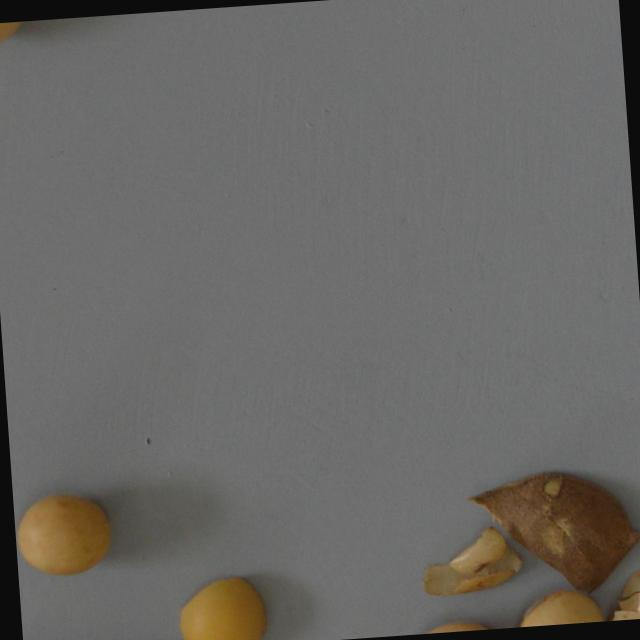cuerpos_extranos: (461, 458, 640, 608), (11, 480, 122, 587), (415, 526, 535, 600), (172, 566, 275, 640), (511, 579, 604, 627), (595, 557, 640, 621), (396, 611, 508, 635), (0, 19, 39, 54)
